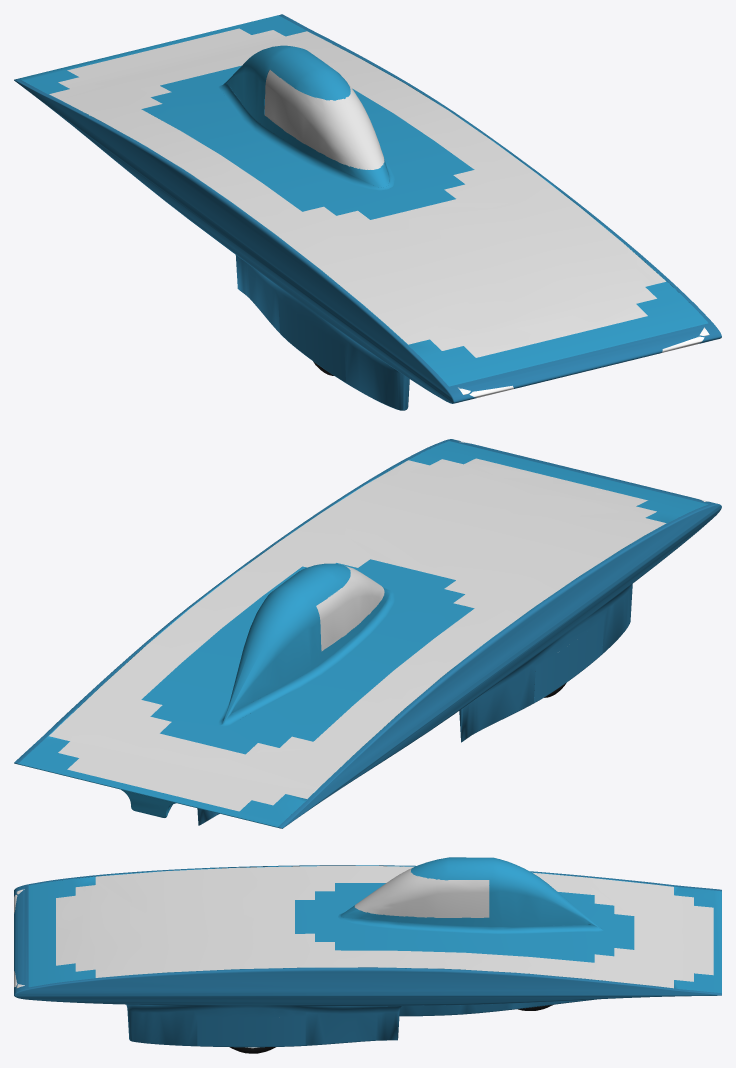
3 renders of one model, top to bottom at view 1: azimuth 30°, elevation 25°; view 2: azimuth 150°, elevation 25°; view 3: azimuth 270°, elevation 25°, orthographic. The views are drawn at different scales.
Parts seen in each view (by area): view 1: Paneles_Techo.002, Techo.001, Carenado.001, Borde_cupula.001, tapas_ruedas.001; view 2: Paneles_Techo.002, Techo.001, Carenado.001, Borde_cupula.001, tapas_ruedas.001; view 3: Paneles_Techo.002, Carenado.001, Techo.001, Borde_cupula.001, tapas_ruedas.001.
Boxes of the visible parts, left/top/right/bottom form: Paneles_Techo.002: left=49, top=28, right=665, bottom=357; Techo.001: left=19, top=15, right=708, bottom=386; Carenado.001: left=14, top=14, right=721, bottom=410; Borde_cupula.001: left=218, top=45, right=394, bottom=190; tapas_ruedas.001: left=278, top=297, right=345, bottom=382; Paneles_Techo.002: left=49, top=458, right=666, bottom=811; Techo.001: left=18, top=441, right=708, bottom=827; Carenado.001: left=14, top=439, right=721, bottom=828; Borde_cupula.001: left=218, top=563, right=394, bottom=726; tapas_ruedas.001: left=534, top=617, right=604, bottom=703; Paneles_Techo.002: left=56, top=866, right=713, bottom=988; Carenado.001: left=14, top=865, right=721, bottom=1046; Techo.001: left=28, top=865, right=721, bottom=993; Borde_cupula.001: left=338, top=857, right=603, bottom=933; tapas_ruedas.001: left=197, top=1016, right=305, bottom=1047.
Size of the model in its own units: 1.61 by 1.07 by 4.57.
